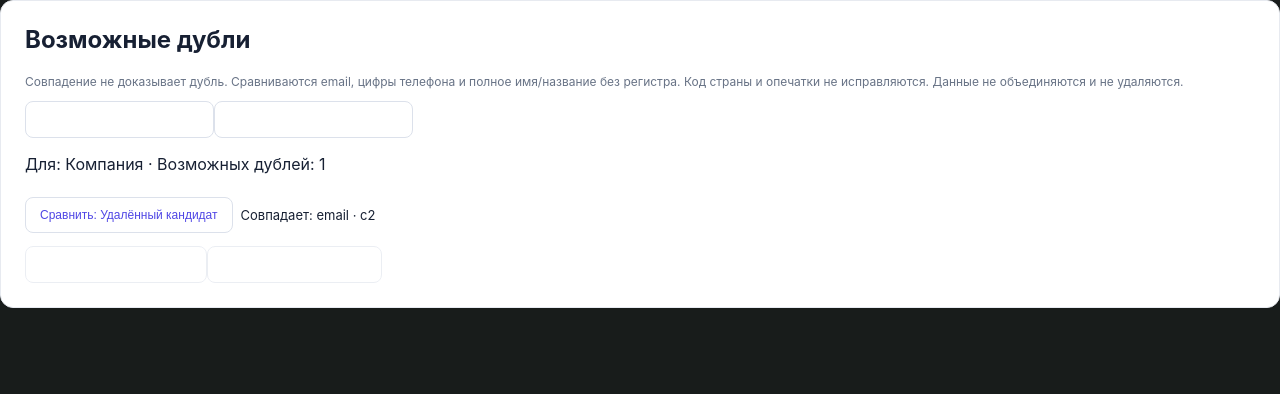
Test: reports a removed candidate instead of opening a blank editor
Click the button "Сравнить: Удалённый кандидат" at [129, 215], box top-left (25, 197), bottom-right (232, 233)
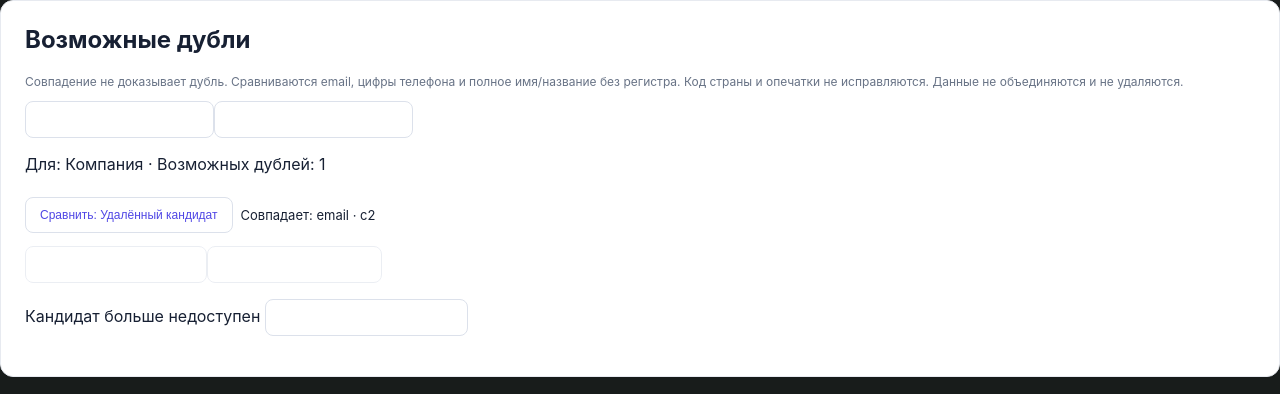
Result: the message shows "Кандидат больше недоступен" at top-left (25, 306), bottom-right (260, 326)
